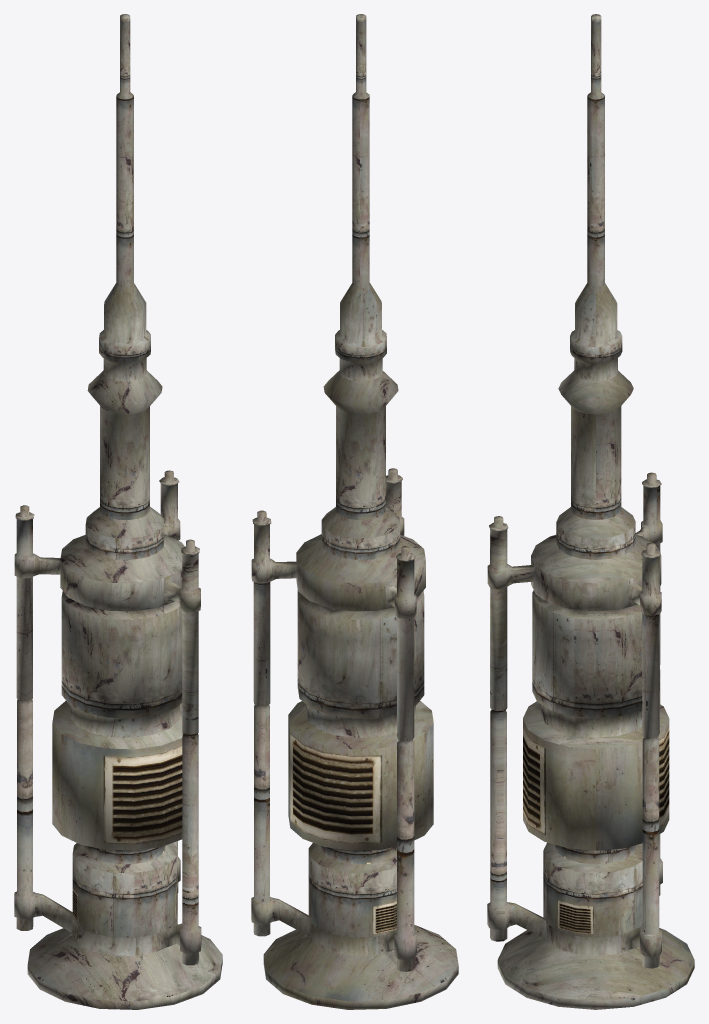
Rendered from sw_tatooine_sceneobj1.fbx.
The picture shows the model from 3 angles, left to right: view 1: azimuth 30°, elevation 25°; view 2: azimuth 150°, elevation 25°; view 3: azimuth 270°, elevation 25°; orthographic projection.
Parts seen in each view (by area): view 1: sw_tatooine_sceneobj1; view 2: sw_tatooine_sceneobj1; view 3: sw_tatooine_sceneobj1.
Part boxes in pixels (x1,y1,x2,y2): sw_tatooine_sceneobj1: [14, 14, 222, 1009]; sw_tatooine_sceneobj1: [251, 14, 458, 1009]; sw_tatooine_sceneobj1: [487, 14, 694, 1009].
Size of the model in its own units: 75.76 by 405 by 79.71.
1 material, 1 textured.
